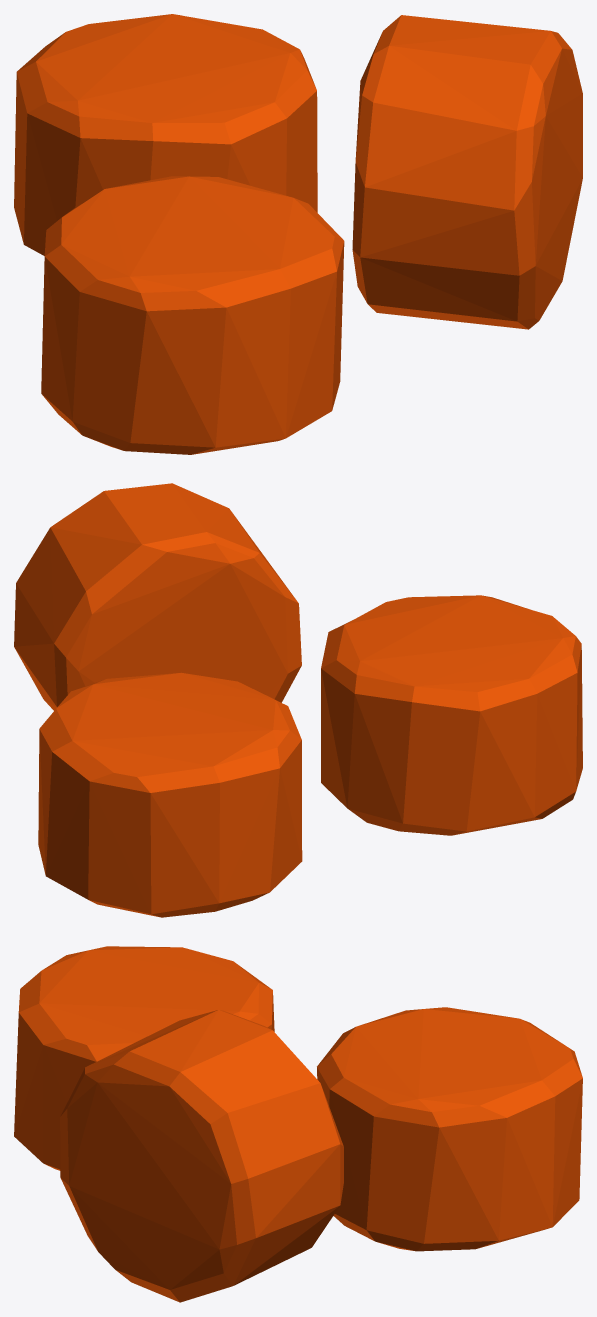
The model's file is single_snacks_bamihap.fbx.
The picture shows the model from 3 angles, top to bottom: view 1: azimuth 30°, elevation 25°; view 2: azimuth 150°, elevation 25°; view 3: azimuth 270°, elevation 25°; orthographic projection. The views are drawn at different scales.
Parts seen in each view (by area): view 1: SingelBamihap_model; view 2: SingelBamihap_model; view 3: SingelBamihap_model.
Boxes of the visible parts, <box> form: SingelBamihap_model: <box>14,14,582,454</box>; SingelBamihap_model: <box>14,483,582,917</box>; SingelBamihap_model: <box>14,946,582,1302</box>.
Size of the model in its own units: 17.54 by 17.75 by 8.03.
